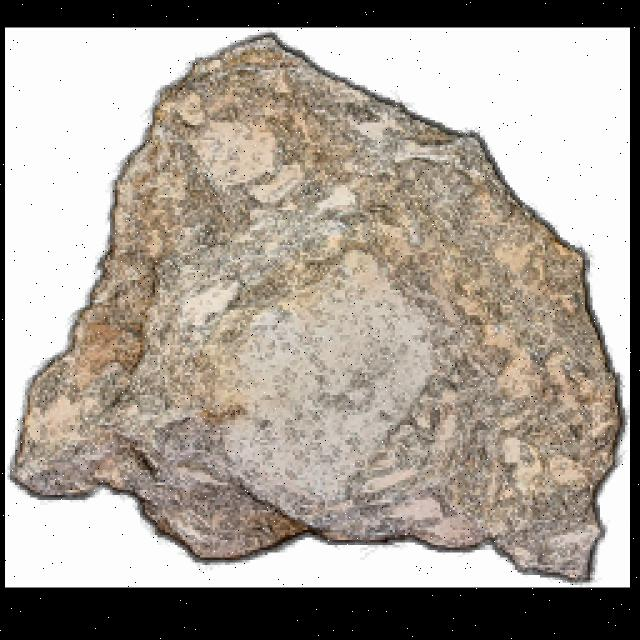Sedimentary: (10, 30, 640, 592)
